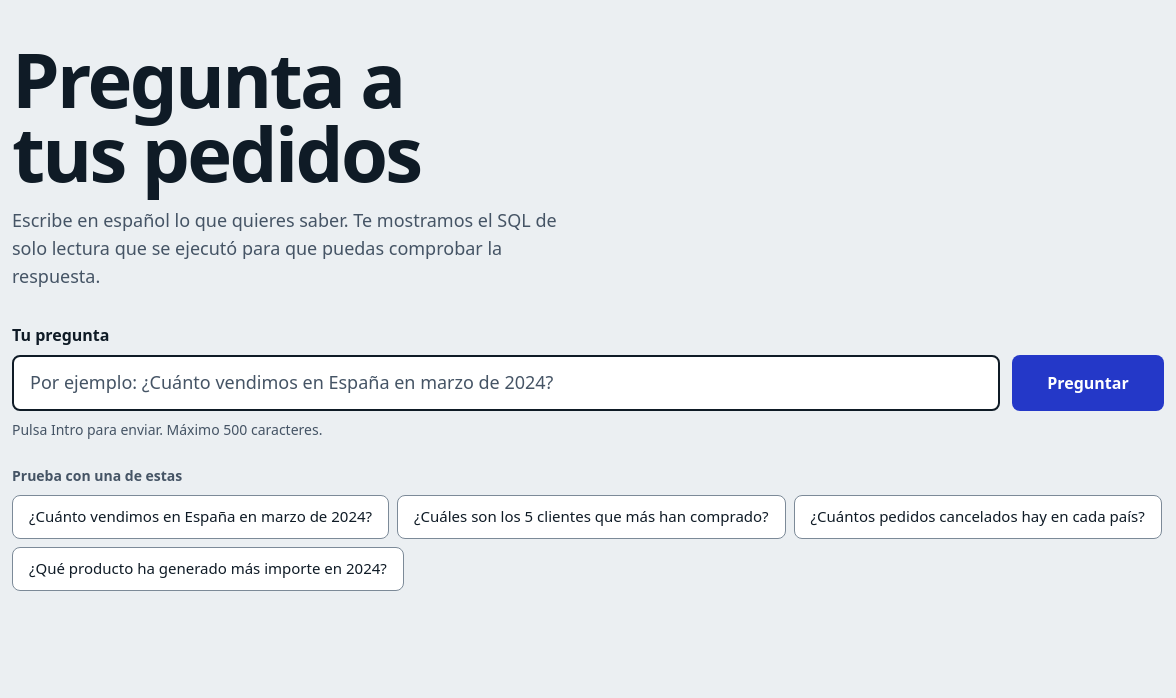
Test case: QuestionPanel › muestra un mensaje en español para base_datos_no_disponible
Type "borra todo" into the field labelled "Tu pregunta". click: {"x": 506, "y": 383}
box: [12,355,1000,411]
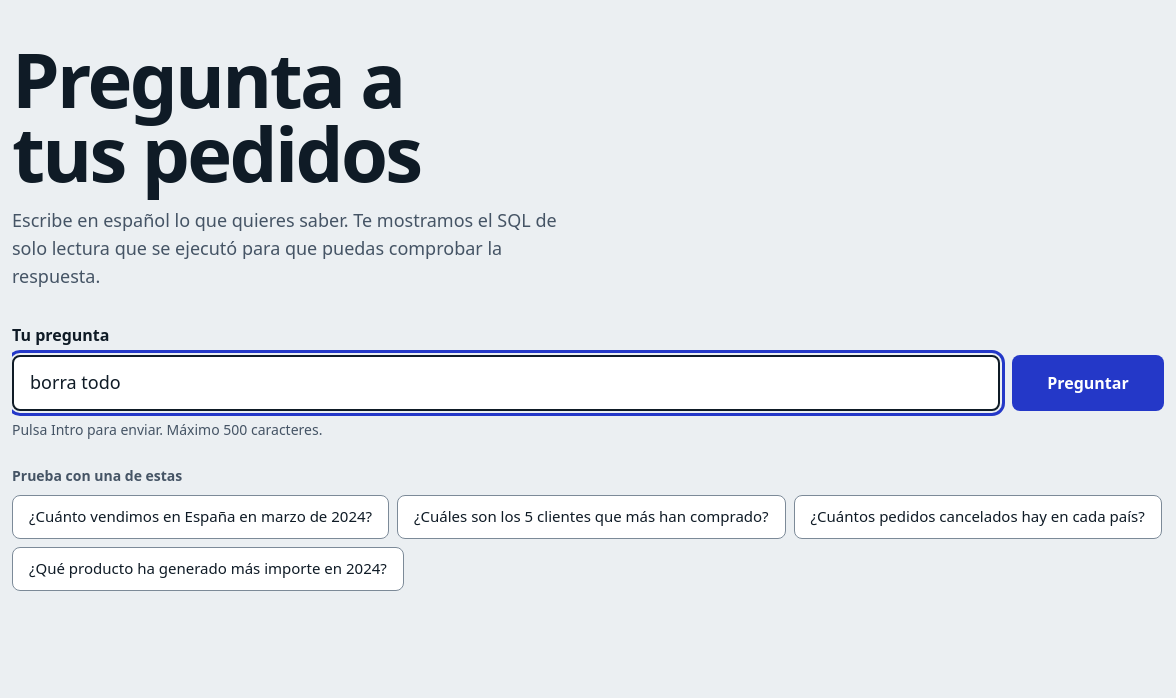
Click the button "Preguntar". click: {"x": 1088, "y": 383}
box: [1012,355,1164,411]
(page scrolled)
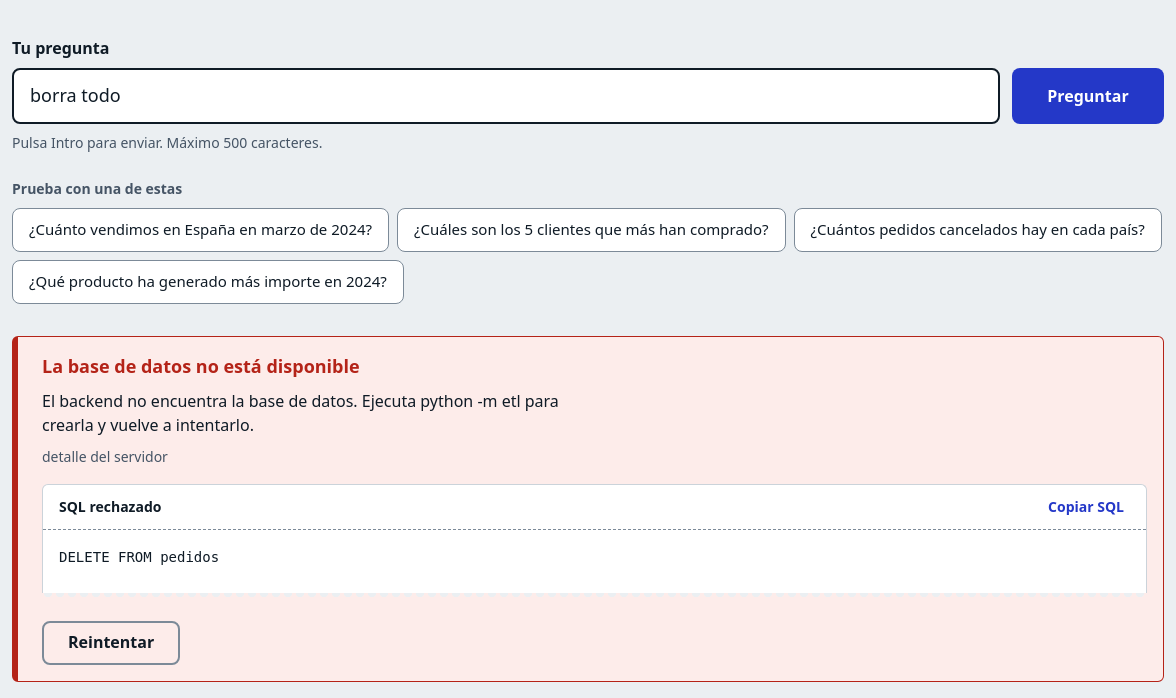
Check: the message shows "La base de datos no está disponible", box [42,354,360,378]
